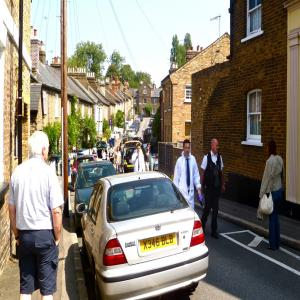Vehicle-registration-plate: (141, 233, 177, 254), (129, 164, 136, 168)
